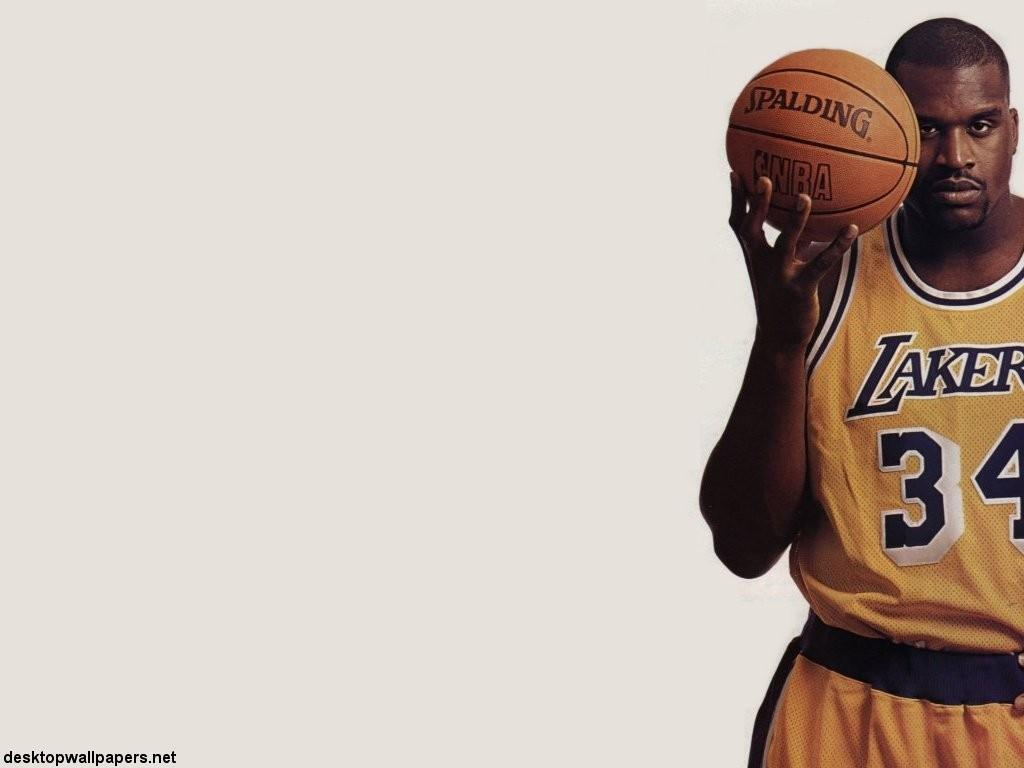face: (891, 33, 1011, 235)
